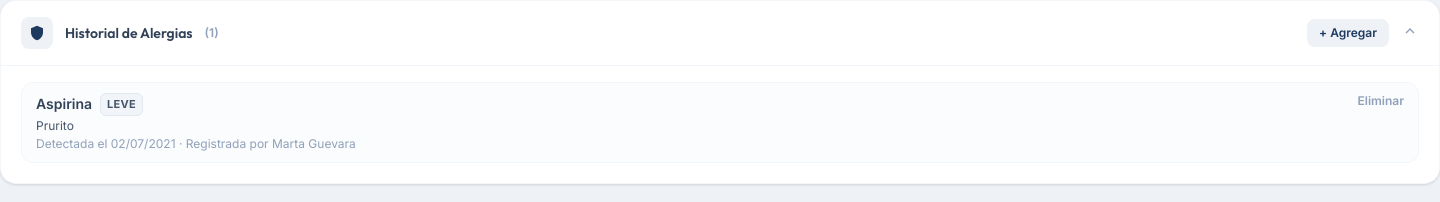
Test: HU-11 · alergias del paciente › c4: eliminar pide confirmar en dos pasos y después la quita de la lista
Click the button with aria-label "Eliminar alergia: Aspirina" at point(1381, 101), box [1358,93,1404,109]
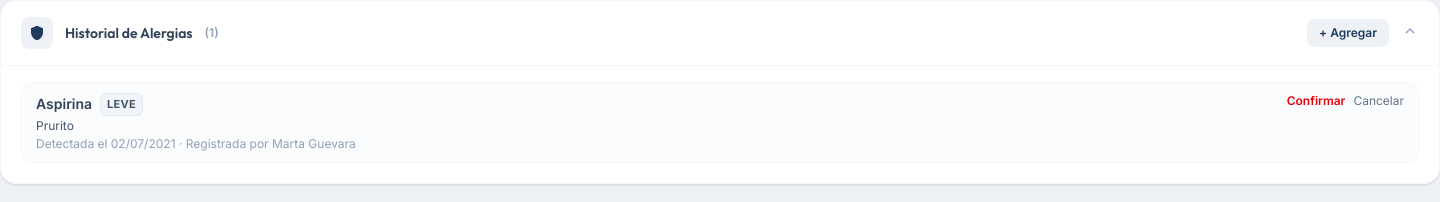
Click the button "Confirmar" at point(1316, 101), box [1287,93,1345,109]
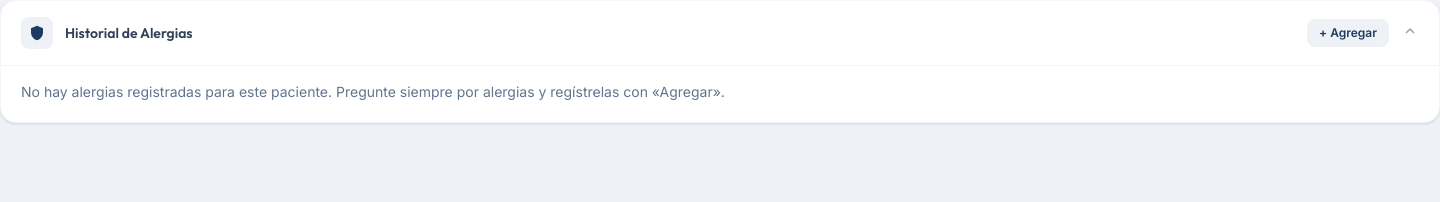
expect the text "Aspirina" is gone: met
